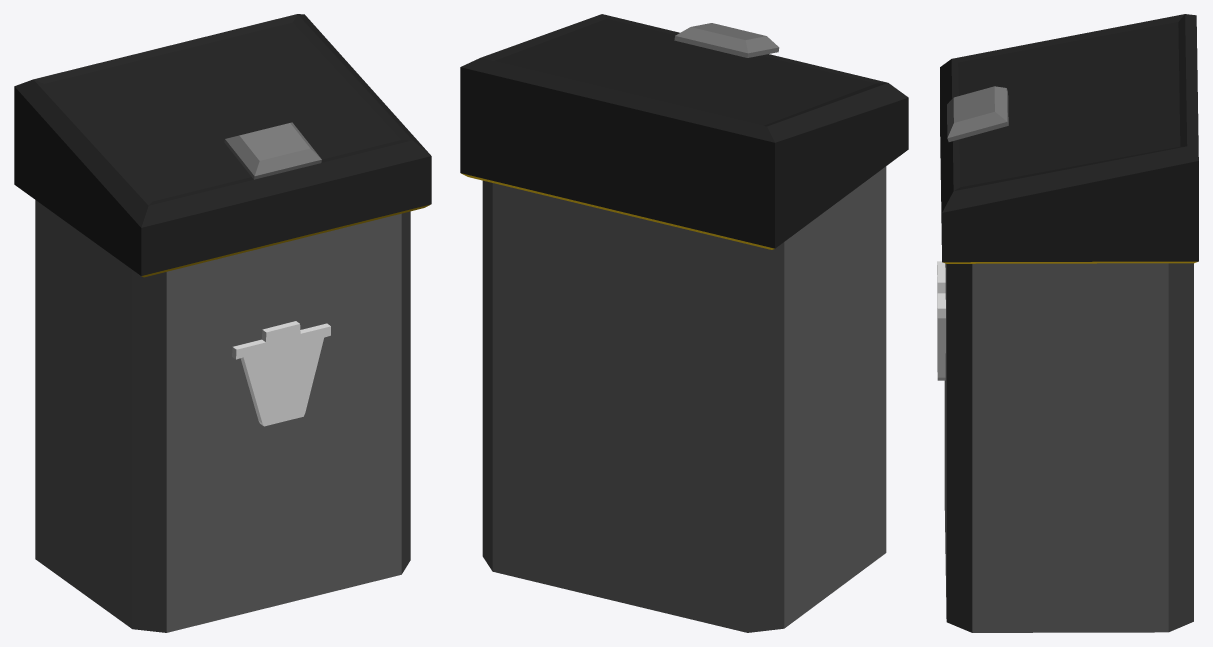
Rendered from Trash.fbx.
3 views of the same model, side by side, from view 1: azimuth 30°, elevation 25°; view 2: azimuth 150°, elevation 25°; view 3: azimuth 270°, elevation 25° (orthographic). The views are drawn at different scales.
Parts seen in each view (by area): view 1: Trash; view 2: Trash; view 3: Trash.
Part boxes in pixels (x1,y1,x2,y2): Trash: (14, 14, 431, 632); Trash: (460, 14, 908, 632); Trash: (937, 14, 1198, 632).
Bounding box in the file's own units: 0.6176 × 0.9501 × 0.4672.
